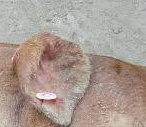text: (31, 81, 63, 109)
